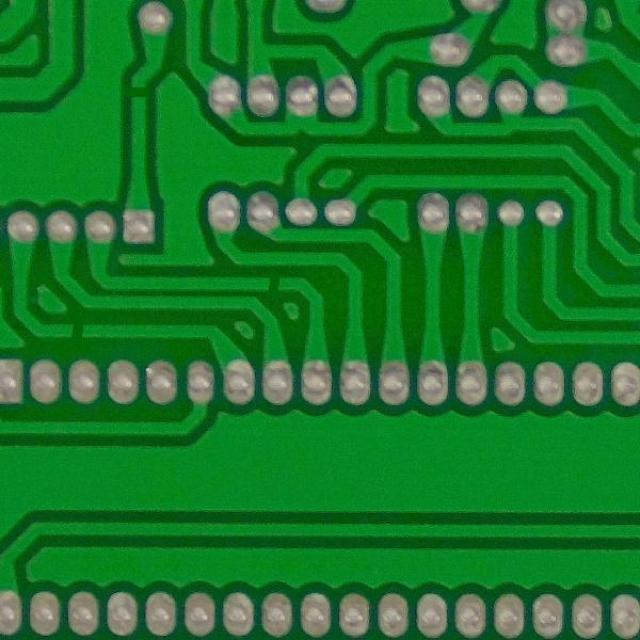Open_Circuit: (56, 316, 100, 346), (253, 268, 296, 298), (122, 77, 156, 112)
